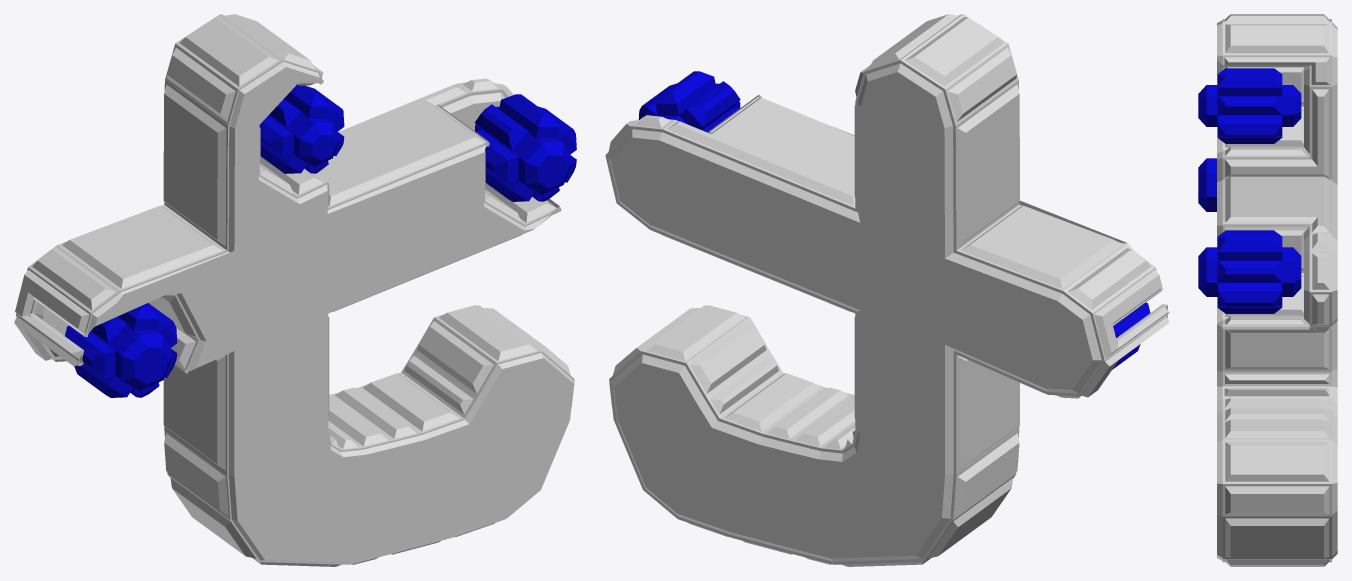
File: Ch_China_七_01.fbx
3 renders of one model, left to right at view 1: azimuth 30°, elevation 25°; view 2: azimuth 150°, elevation 25°; view 3: azimuth 270°, elevation 25°, orthographic. The views are drawn at different scales.
Visible parts, largest first — view 1: sphere1; view 2: sphere1; view 3: sphere1.
Part boxes in pixels (x1,y1,x2,y2): sphere1: [14, 14, 576, 566]; sphere1: [605, 14, 1169, 566]; sphere1: [1198, 14, 1337, 566].
Bounding box in the file's own units: 0.9275 × 0.9248 × 0.2541.
